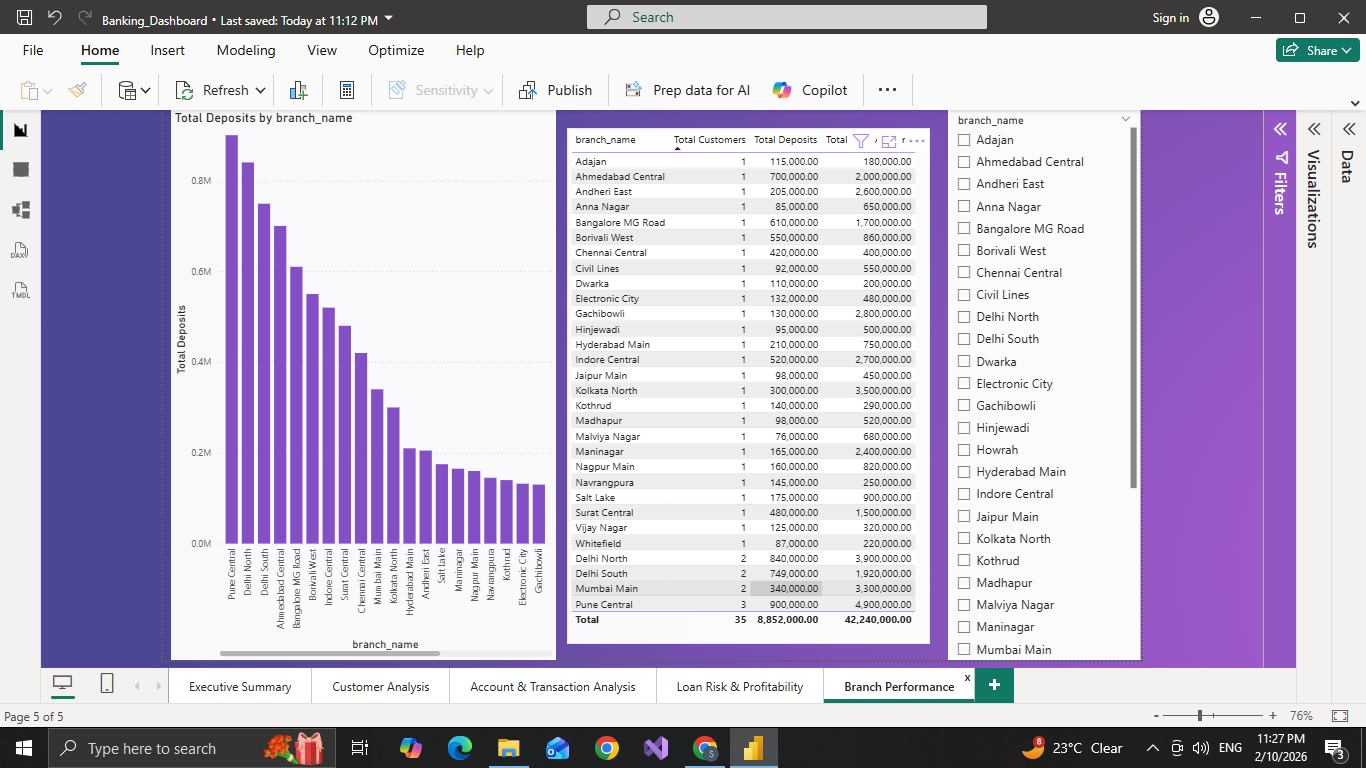

What the dashboard file says about the page in this screenshot:
{"tool":"powerbi","page":{"name":"Branch Performance","canvas":[1280,720],"ordinal":4},"visuals":[{"type":"columnChart","fields":{"Category":["project1 branches.branch_name"],"Y":["project1 accounts.Total Deposits"]},"box":[10.1,0,503.9,720.6],"z":0},{"type":"tableEx","fields":{"Values":["project1 branches.branch_name","project1 accounts.Total Customers","project1 accounts.Total Deposits","project1 accounts.Total Loan Amount"]},"box":[529.1,23.5,475.4,675.3],"z":1000},{"type":"slicer","fields":{"Values":["project1 branches.branch_name"]},"box":[1028,0,252,720.6],"z":2000}]}

Visuals, with their boxes on the page's 1280x720 design canvas (x1, y1, x2, y2). These are canvas units, not pixel positions in the 1366x768 screenshot, which may show the page scaled, cropped or inside an application window:
columnChart - project1 branches.branch_name x project1 accounts.Total Deposits: (10,0,514,721)
tableEx - project1 branches.branch_name x project1 accounts.Total Customers: (529,24,1004,699)
slicer - project1 branches.branch_name: (1028,0,1280,721)
